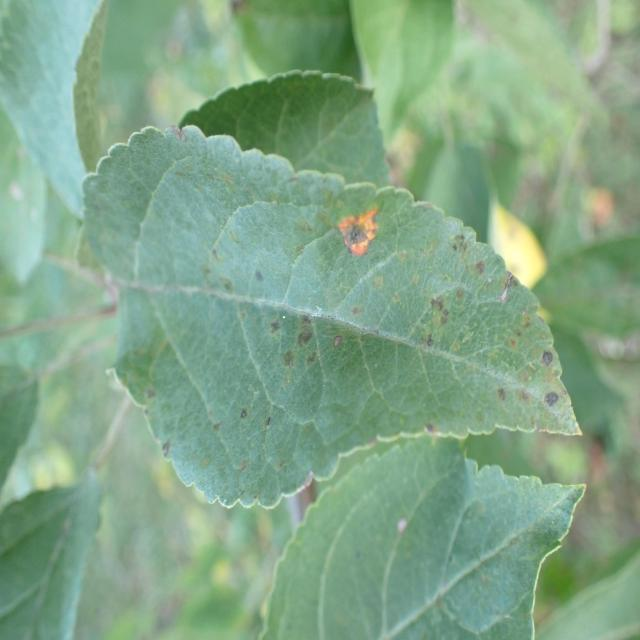rust: (80, 124, 586, 512)
